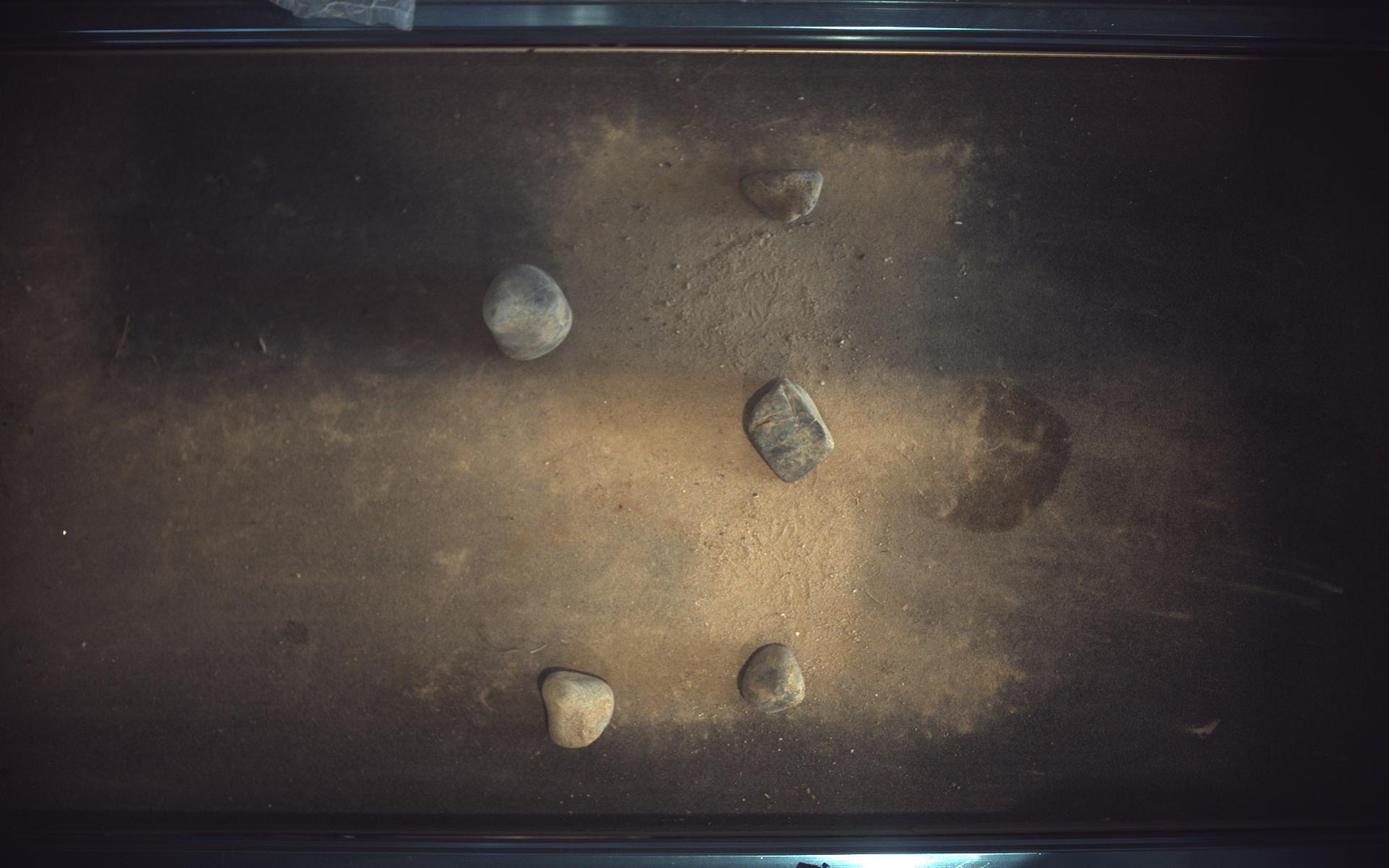stone: (744, 378, 836, 483), (483, 264, 573, 360), (541, 671, 615, 749), (739, 644, 807, 715), (743, 169, 824, 221)
